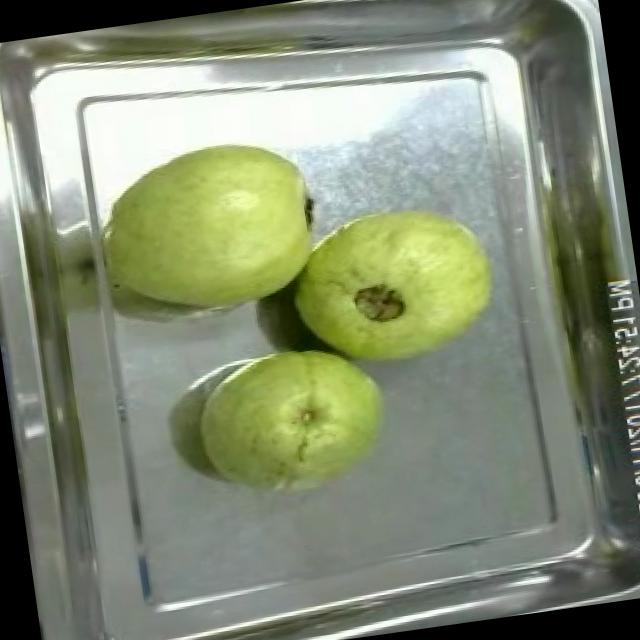Fruit: (88, 122, 335, 334), (272, 185, 516, 384), (182, 327, 407, 518)
